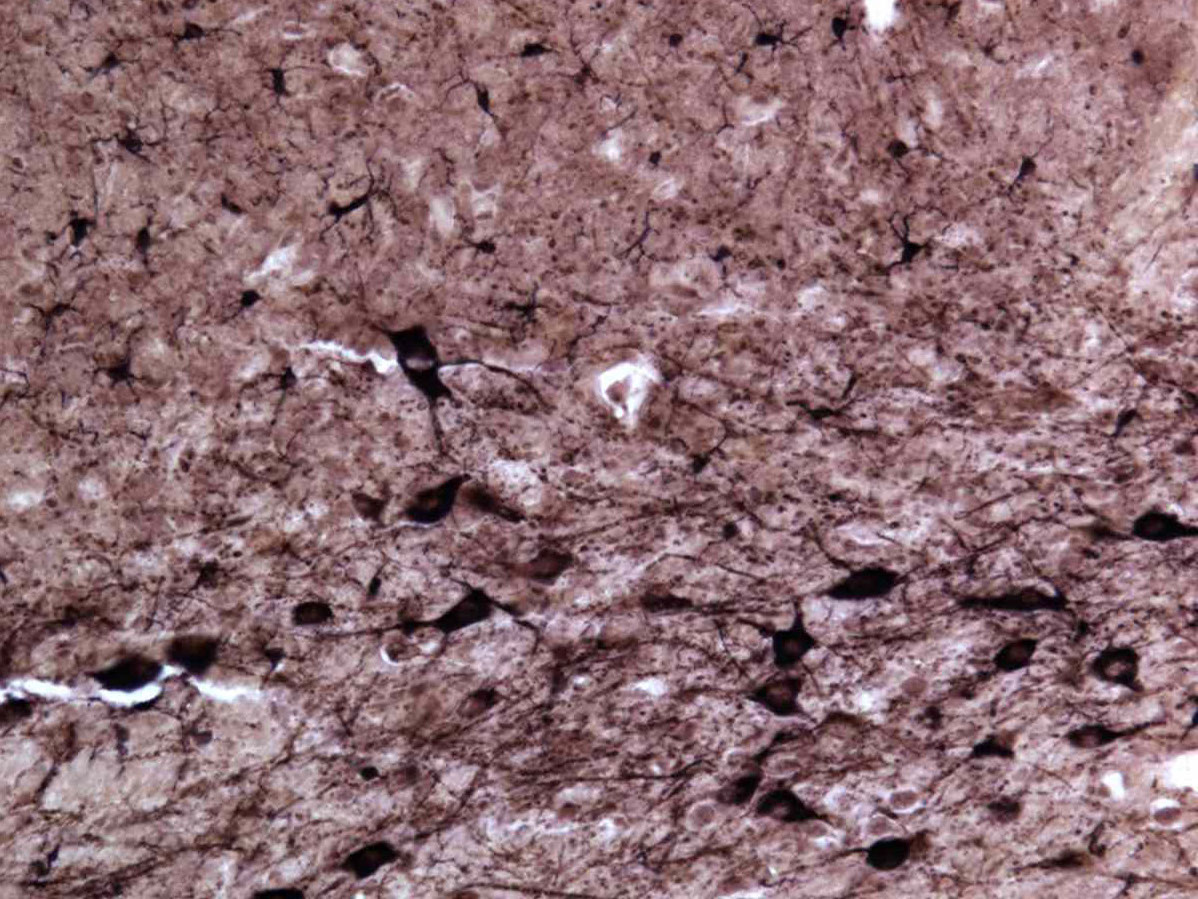neuron: (400, 463, 482, 526), (1078, 641, 1160, 704), (752, 776, 834, 839), (767, 609, 831, 663), (751, 672, 813, 720), (985, 632, 1040, 684), (1129, 496, 1184, 548), (1060, 717, 1137, 754)
